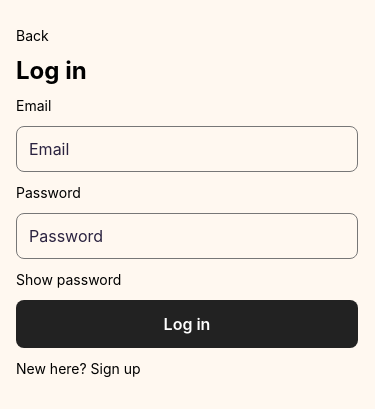
shows provider errors and preserves login support for existing passwords
Type "a@example.test" into the field labelled "Email" at (187, 149), box x1=16 y1=126 x2=358 y2=172
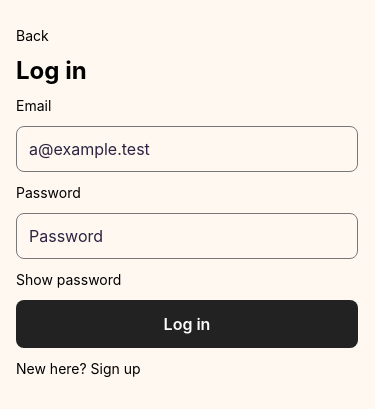
Type "legacy" into the password field labelled "Password" at (187, 236), box x1=16 y1=213 x2=358 y2=259
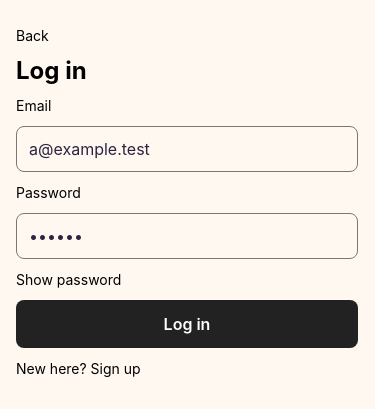
Click the button "Log in" at (187, 324), box x1=16 y1=300 x2=358 y2=348
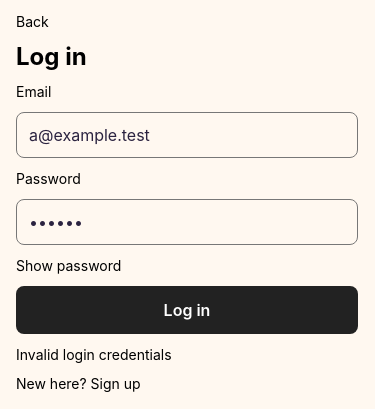
expect the message reads "Invalid login credentials": met, box x1=16 y1=346 x2=172 y2=362
